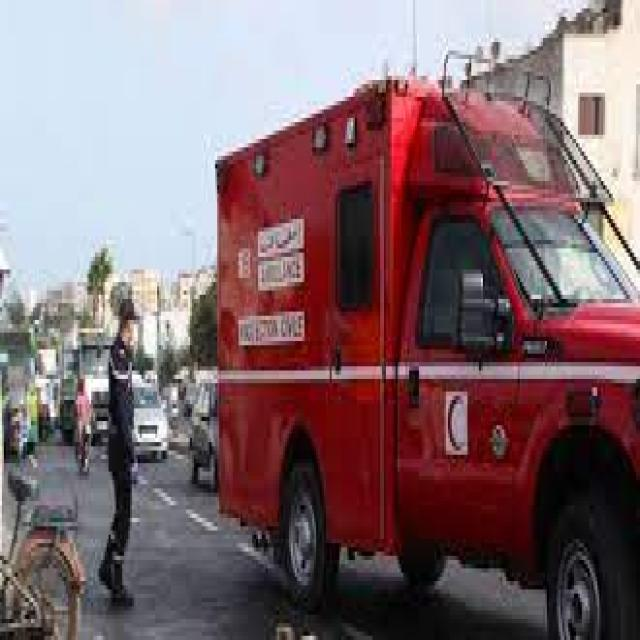ambulance: (203, 38, 640, 636)
